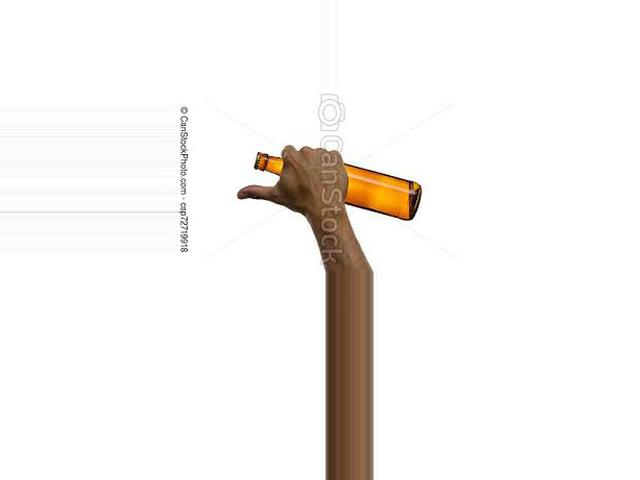beer: (255, 153, 420, 221)
